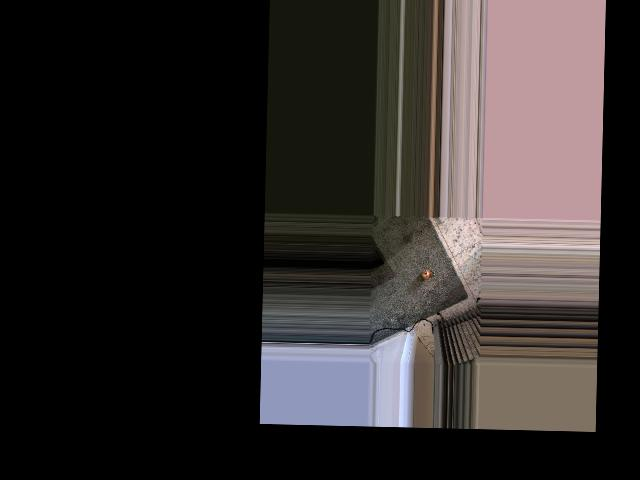onion: (421, 269, 431, 280)
